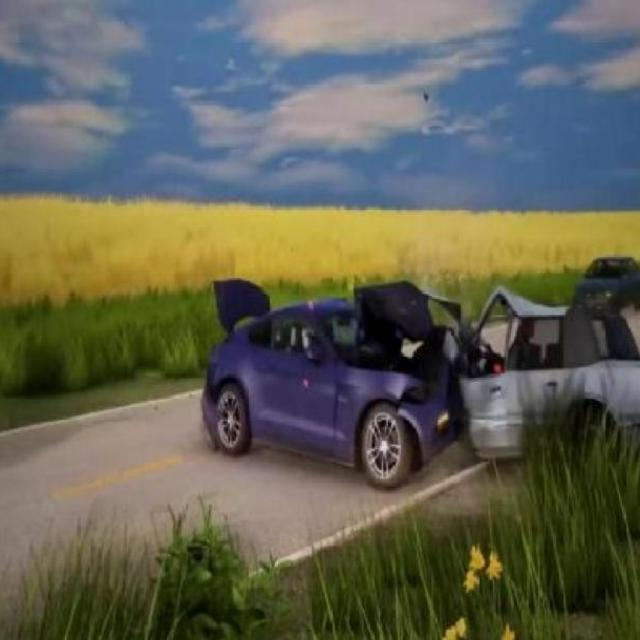accident: (196, 294, 640, 510)
